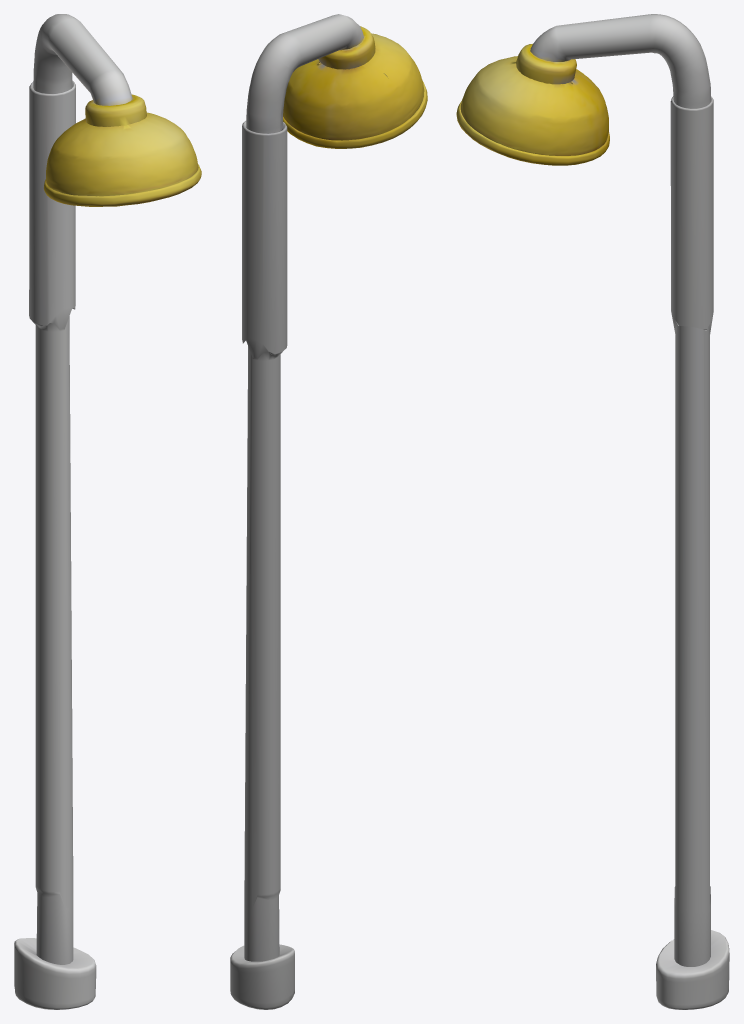
The model's file is streetlight.glb.
3 renders of one model, left to right at view 1: azimuth 30°, elevation 25°; view 2: azimuth 150°, elevation 25°; view 3: azimuth 270°, elevation 25°, orthographic. The views are drawn at different scales.
Visible parts, largest first — view 1: SM_streetlight; view 2: SM_streetlight; view 3: SM_streetlight.
Boxes of the visible parts, box(x1,y1,x2,y2) form: SM_streetlight: box(14, 14, 201, 1009); SM_streetlight: box(230, 14, 427, 1009); SM_streetlight: box(456, 14, 729, 1009).
Bounding box in the file's own units: 0.1441 × 1 × 0.2535.
